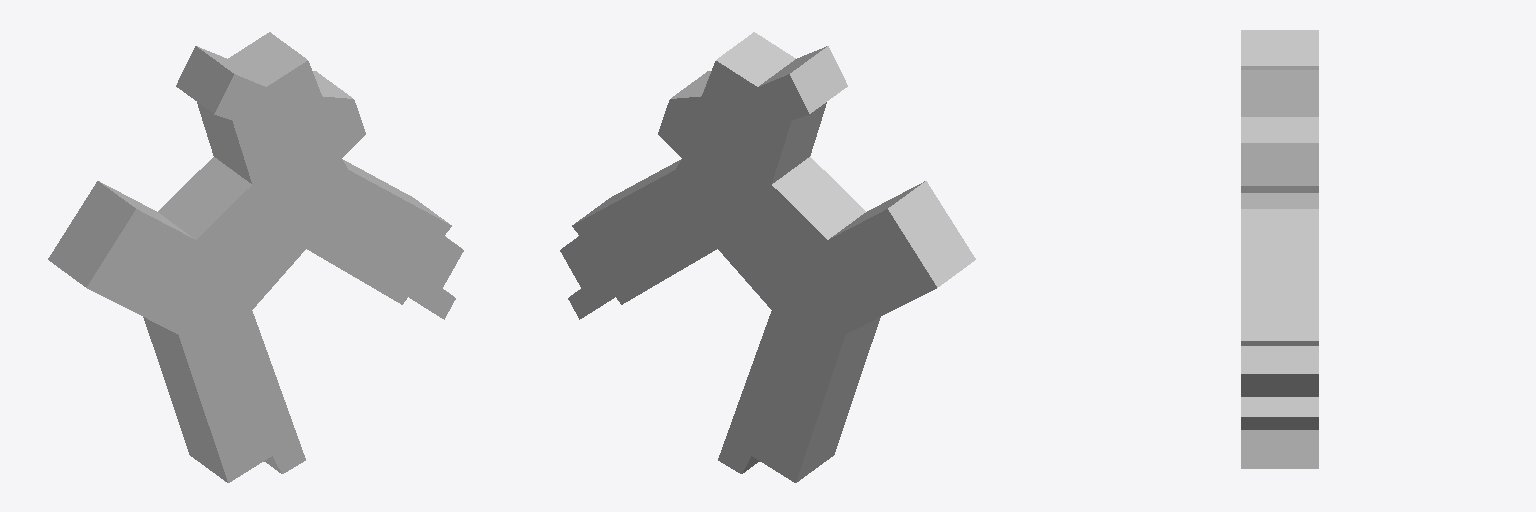
File: Blanchardstown_TUDublin_Library v2.obj
3 renders of one model, left to right at view 1: azimuth 30°, elevation 25°; view 2: azimuth 150°, elevation 25°; view 3: azimuth 270°, elevation 25°, orthographic.
Visible parts, largest first — view 1: MeshBody1 (303); view 2: MeshBody1 (303); view 3: MeshBody1 (303).
Part boxes in pixels (left/top/right/bottom): MeshBody1 (303): left=48, top=32, right=463, bottom=482; MeshBody1 (303): left=560, top=32, right=975, bottom=482; MeshBody1 (303): left=1241, top=30, right=1318, bottom=468.
Bounding box in the file's own units: 6.3 × 6.57 × 1.12.